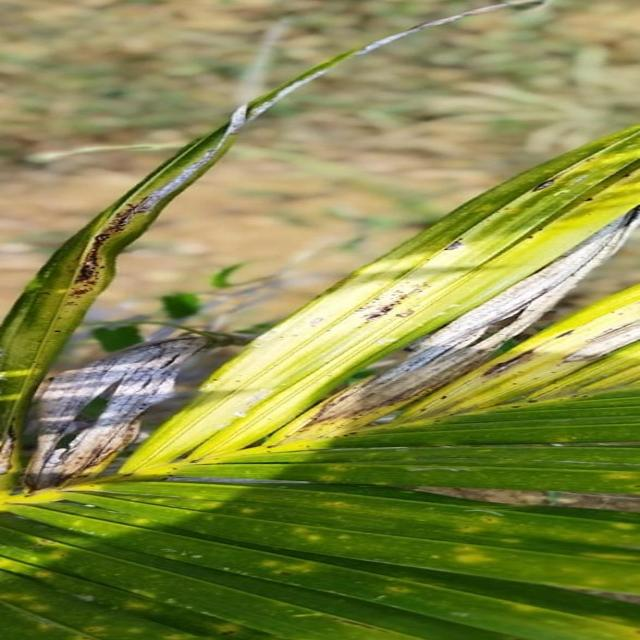Yellow_Leaf_Disease: (160, 208, 606, 520)
